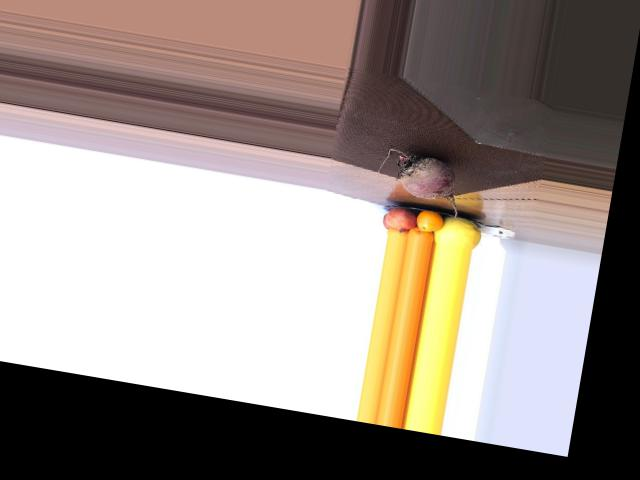beet: (372, 146, 467, 223)
